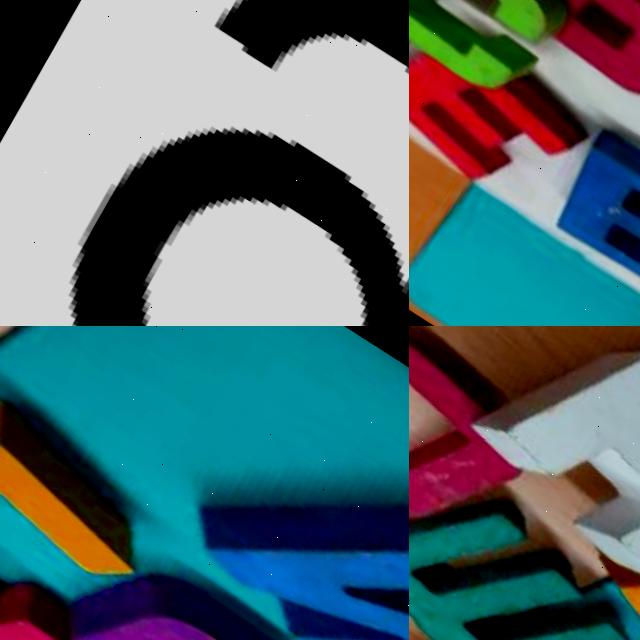9: (0, 0, 409, 326)
A: (492, 0, 640, 128), (0, 471, 98, 640)
B: (522, 101, 640, 306)
C: (409, 0, 574, 117)
E: (409, 14, 571, 208)
G: (31, 518, 307, 640)
H: (442, 326, 640, 622)
L: (0, 330, 159, 635)
M: (409, 430, 640, 640)
N: (158, 384, 409, 640)
O: (409, 326, 531, 559)
